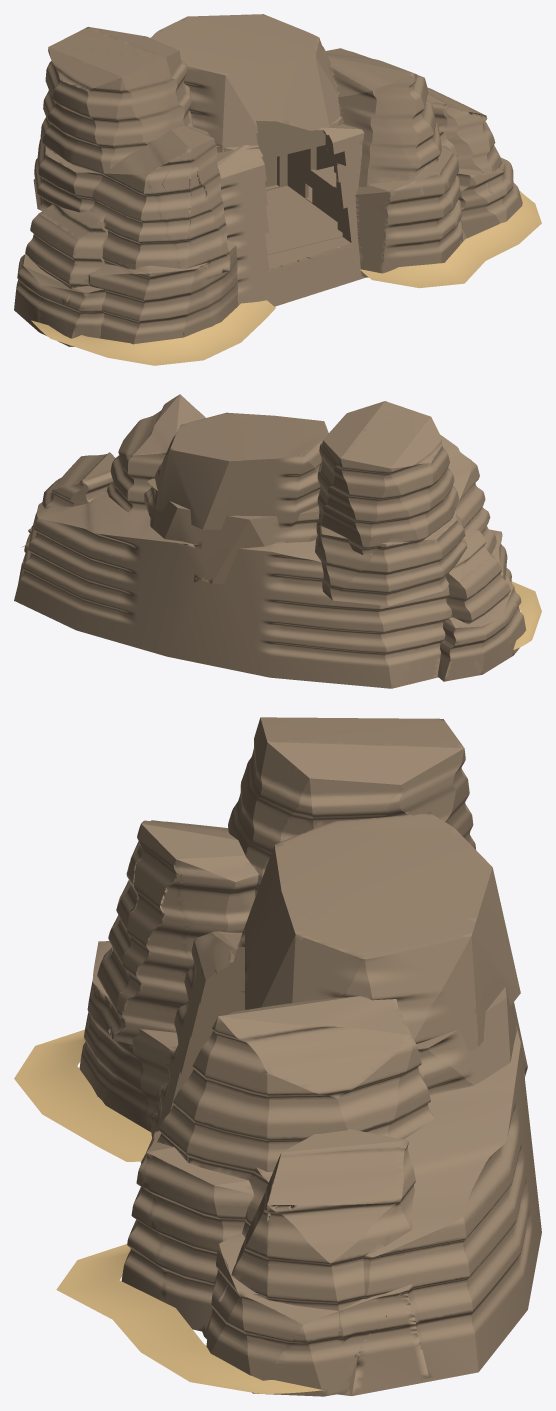
The model's file is mountain.glb.
3 renders of one model, top to bottom at view 1: azimuth 30°, elevation 25°; view 2: azimuth 150°, elevation 25°; view 3: azimuth 270°, elevation 25°, orthographic. The views are drawn at different scales.
Visible parts, largest first — view 1: mountain-sandstone-low, sand-foot--1, sand-foot-1; view 2: mountain-sandstone-low, sand-foot--1; view 3: mountain-sandstone-low, sand-foot-1, sand-foot--1.
Boxes of the visible parts, x1,y1,x2,y2 form: mountain-sandstone-low: (14,14,522,346); sand-foot--1: (31,300,275,365); sand-foot-1: (360,190,541,288); mountain-sandstone-low: (14,394,525,688); sand-foot--1: (511,581,541,649); mountain-sandstone-low: (79,717,541,1396); sand-foot-1: (56,1244,323,1393); sand-foot--1: (14,1029,151,1161).
Size of the model in its own units: 130 by 59.6 by 75.
